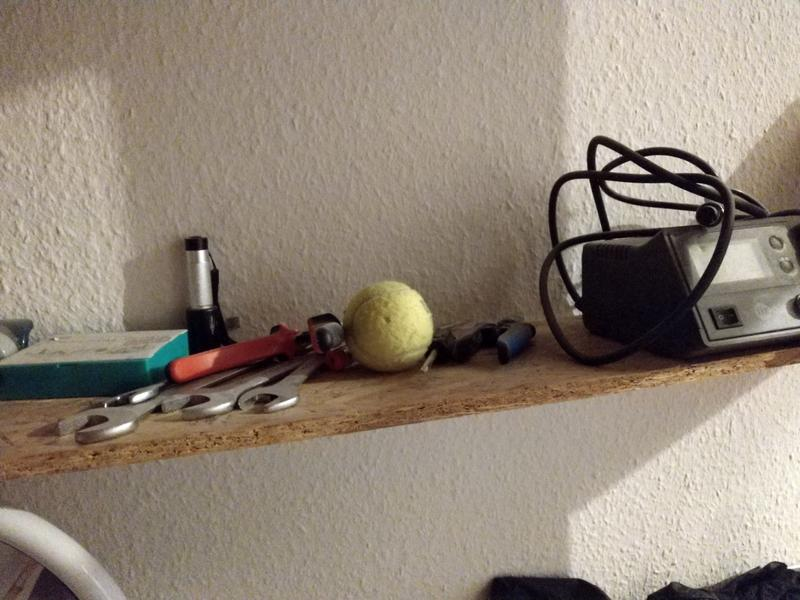Tennisball: (340, 278, 438, 377)
